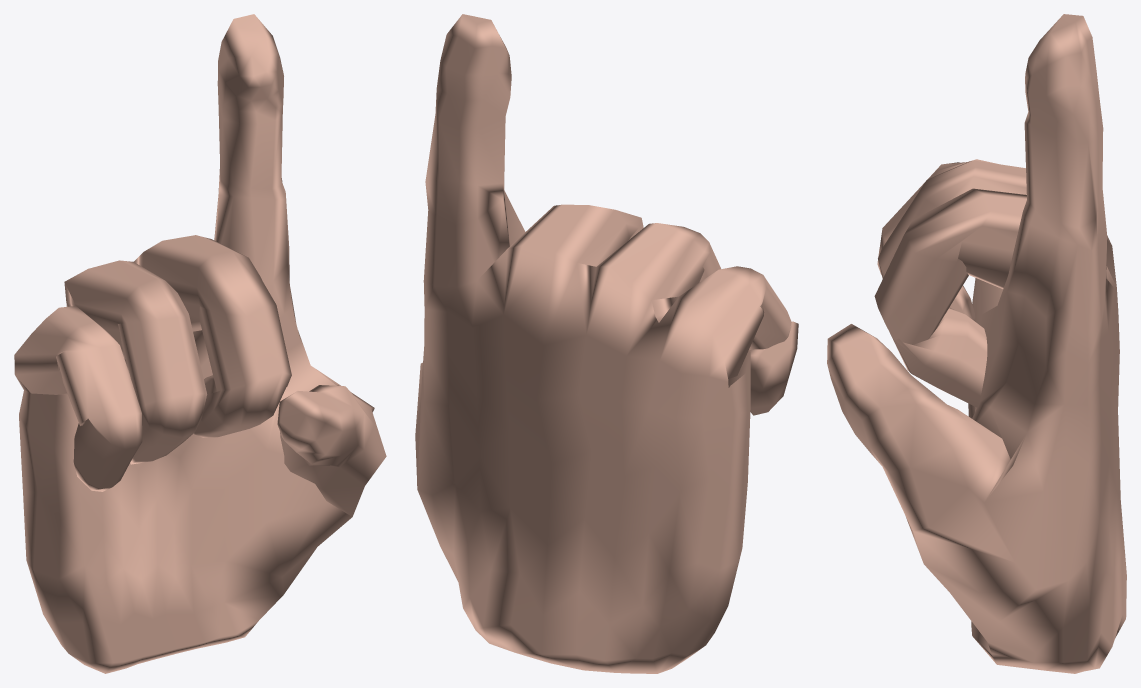
File: INDICADOR.obj
The picture shows the model from 3 angles, left to right: view 1: azimuth 30°, elevation 25°; view 2: azimuth 150°, elevation 25°; view 3: azimuth 270°, elevation 25°; orthographic projection. The views are drawn at different scales.
Parts seen in each view (by area): view 1: mao_dir:mao_dir; view 2: mao_dir:mao_dir; view 3: mao_dir:mao_dir.
Boxes of the visible parts, x1,y1,x2,y2 form: mao_dir:mao_dir: (14, 14, 386, 673); mao_dir:mao_dir: (415, 14, 798, 673); mao_dir:mao_dir: (827, 14, 1126, 673).
Bounding box in the file's own units: 133 × 227 × 92.29.
